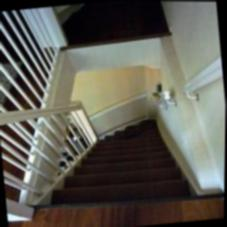Animal: (33, 135, 195, 227)
